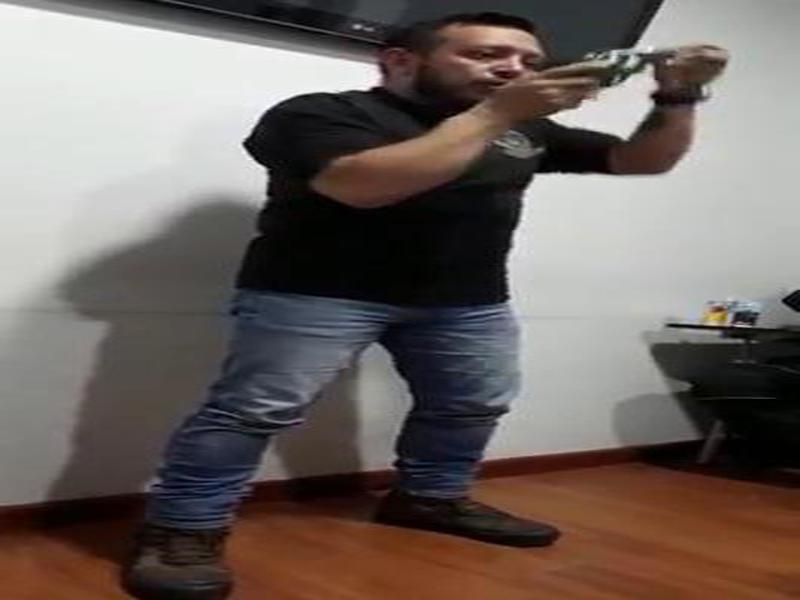Revolver: (563, 23, 732, 122)
